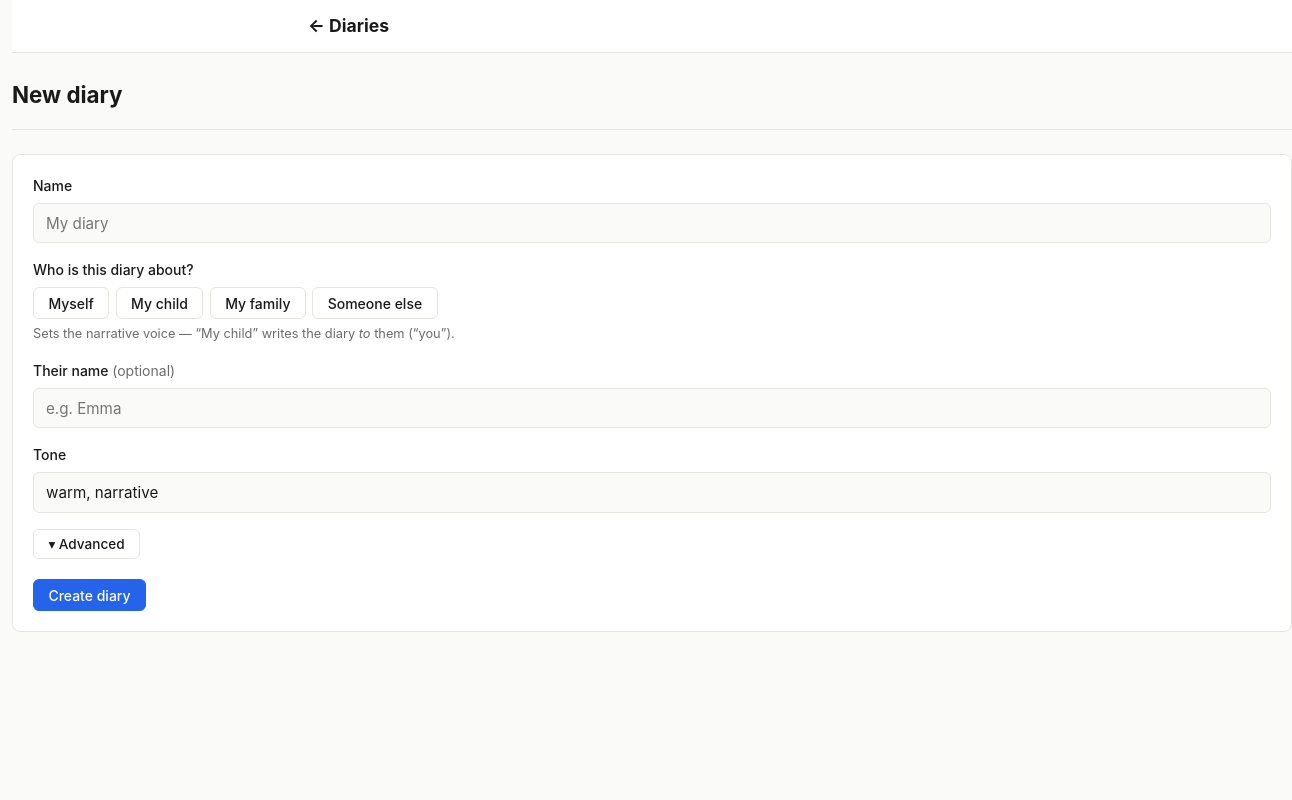
it: NewDiaryPage › shows a generic error message on other API failures
The image size is (1292, 800).
Type "New diary" into the field labelled "Name" at x=652, y=223, box [33, 203, 1271, 243]
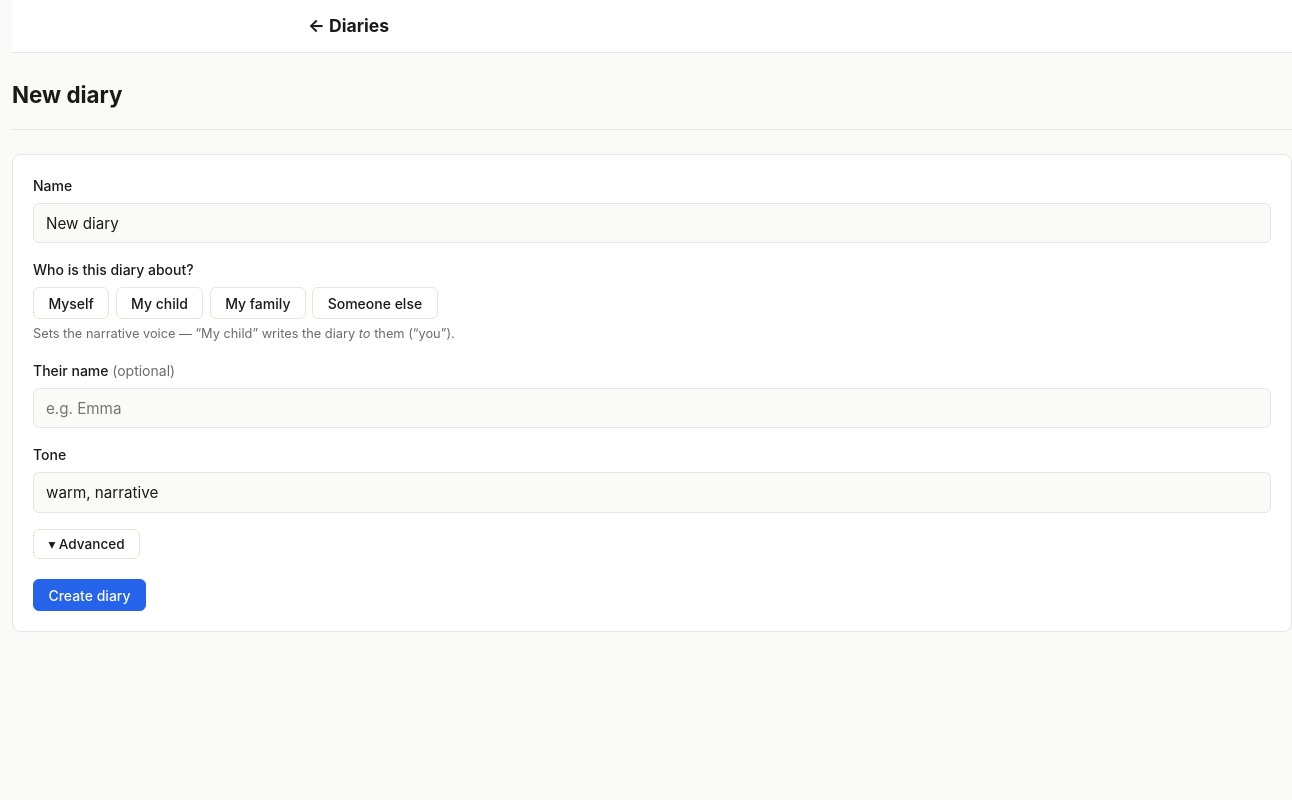
Click the button "Create diary" at x=89, y=595, box [33, 579, 146, 611]
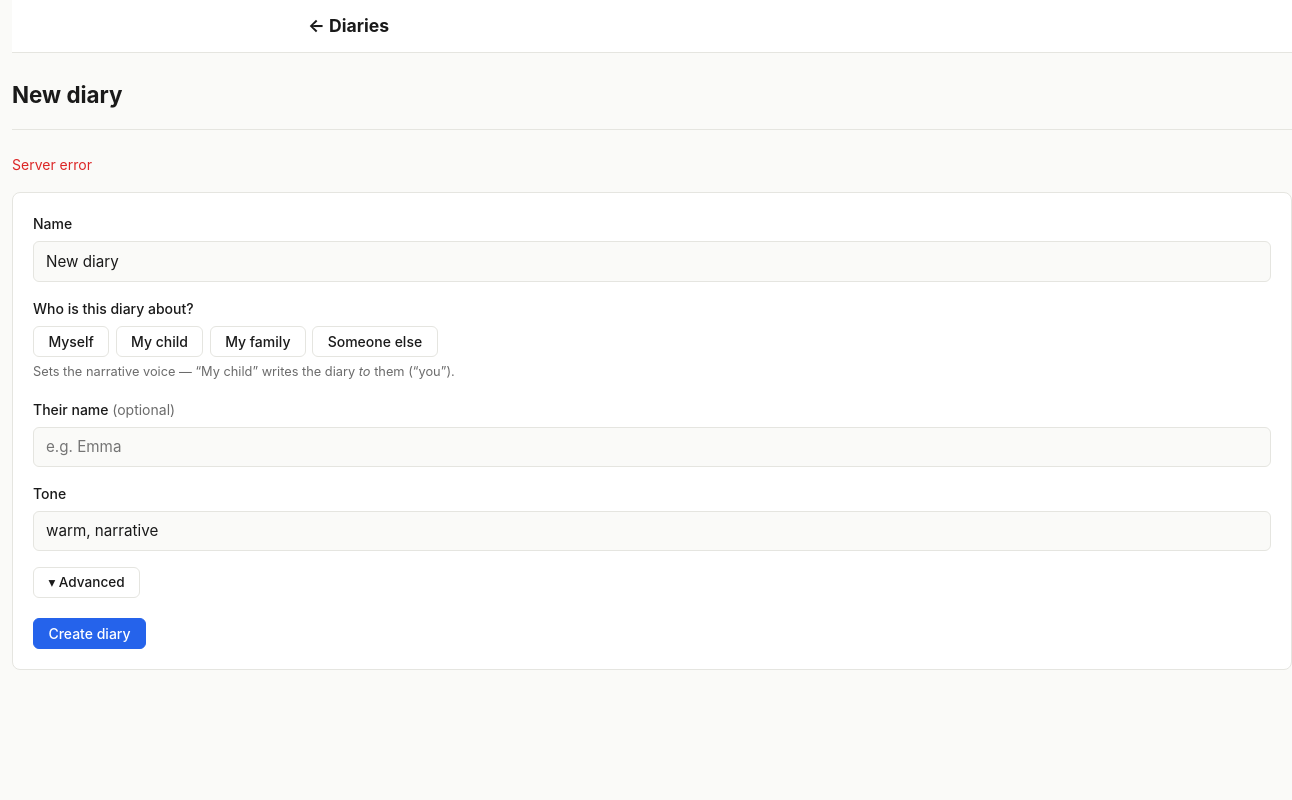
Result: the text "Server error" is shown at [12, 156, 92, 173]
